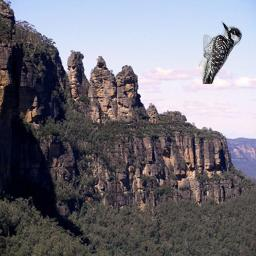Woodpecker: (191, 20, 242, 84)
